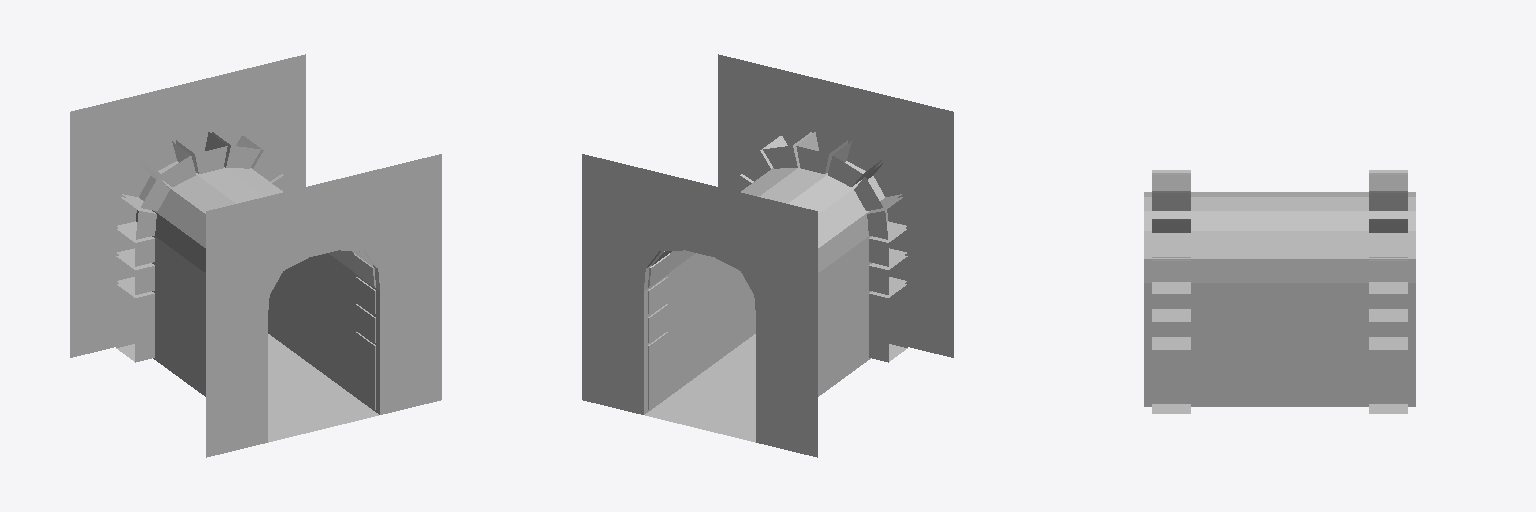
The picture shows the model from 3 angles: view 1: azimuth 30°, elevation 25°; view 2: azimuth 150°, elevation 25°; view 3: azimuth 270°, elevation 25°; orthographic projection.
Visible parts, largest first — view 1: objRegroup02; view 2: objRegroup02; view 3: objRegroup02.
Part boxes in pixels (x1,y1,x2,y2): objRegroup02: (70,54,441,457); objRegroup02: (582,54,953,457); objRegroup02: (1144,170,1415,413).
Size of the model in its own units: 10 by 10 by 10.